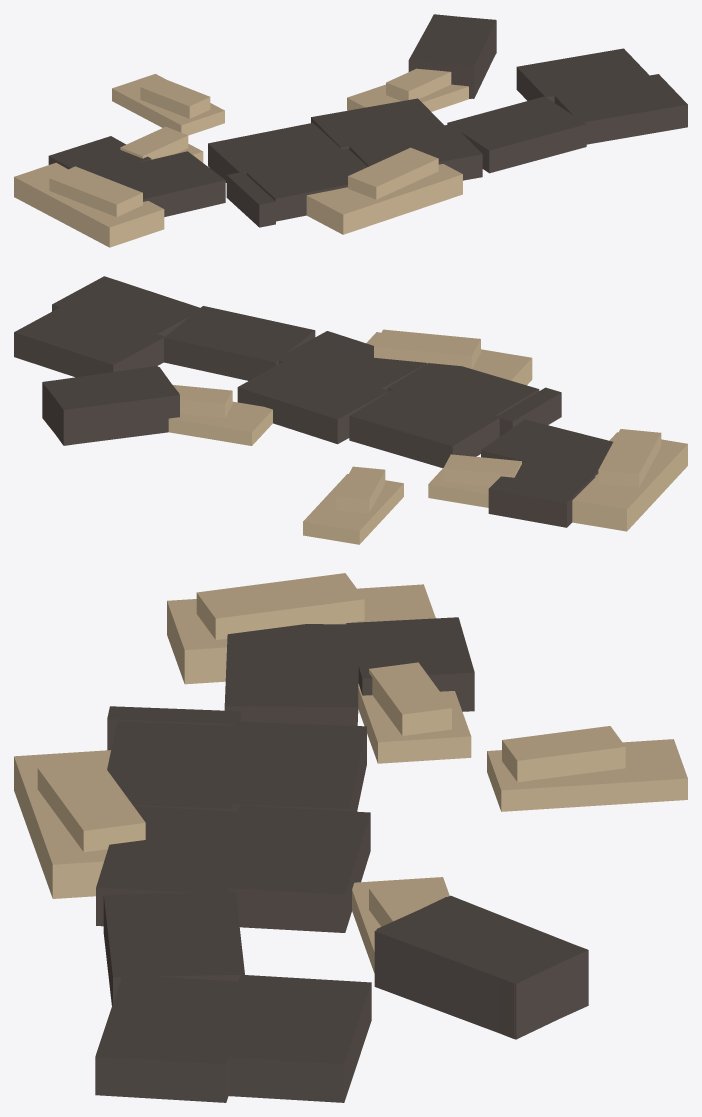
The model's file is SM_PretilEsquinaPaso_v1_Talud_e3_Brecha_LOD0.fbx.
The picture shows the model from 3 angles, top to bottom: view 1: azimuth 30°, elevation 25°; view 2: azimuth 150°, elevation 25°; view 3: azimuth 270°, elevation 25°; orthographic projection. The views are drawn at different scales.
Visible parts, largest first — view 1: SM_pretil_azotea_v47_LOD0; view 2: SM_pretil_azotea_v47_LOD0; view 3: SM_pretil_azotea_v47_LOD0.
Boxes of the visible parts, <box> form: SM_pretil_azotea_v47_LOD0: <box>14,14,687,247</box>; SM_pretil_azotea_v47_LOD0: <box>14,276,687,544</box>; SM_pretil_azotea_v47_LOD0: <box>14,573,687,1102</box>.
Size of the model in its own units: 4.85 by 0.26 by 2.85.
